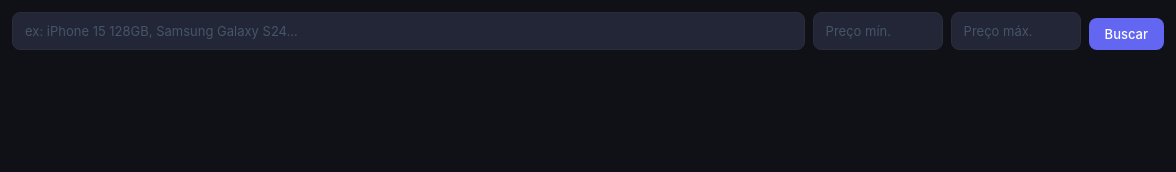
Test: SearchByName › blocks submit when minPrice is greater than maxPrice
Type "iphone 15" into the field with placeholder "ex: iPhone 15 128GB, Samsung Galaxy S24..." at (408, 31), box [12,12,805,50]
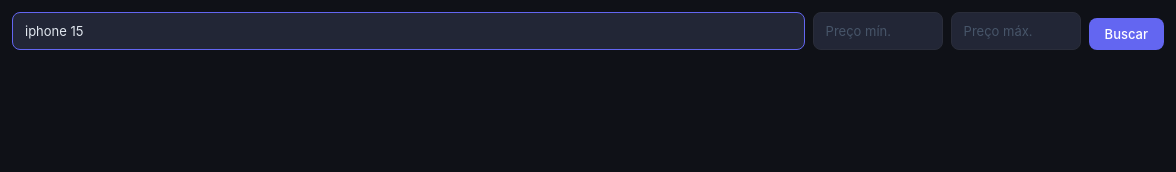
Type "500" into the number field with placeholder "Preço mín." at (878, 31), box [813,12,943,50]
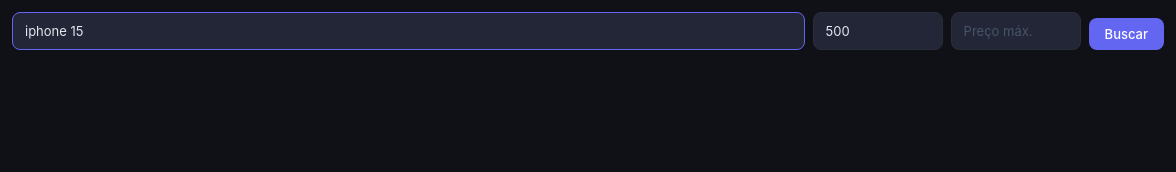
Type "100" into the number field with placeholder "Preço máx." at (1016, 31), box [951,12,1081,50]
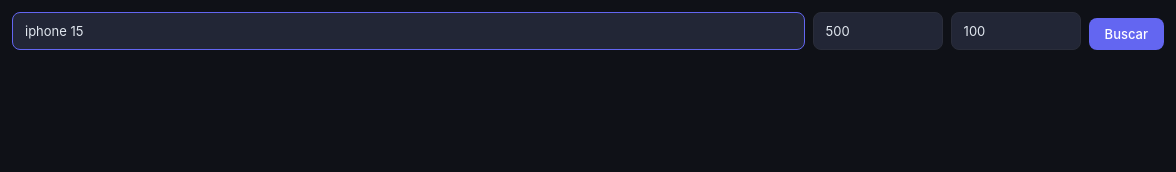
Click the button "Buscar" at (1126, 34), box [1089,18,1164,50]
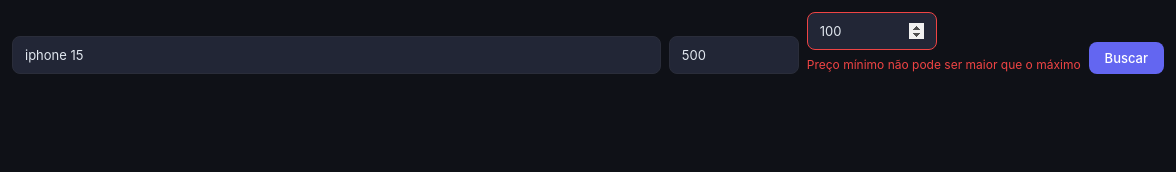
Check: the text "Preço mínimo não pode ser maior que o máximo" is shown, box [807,56,1081,74]
